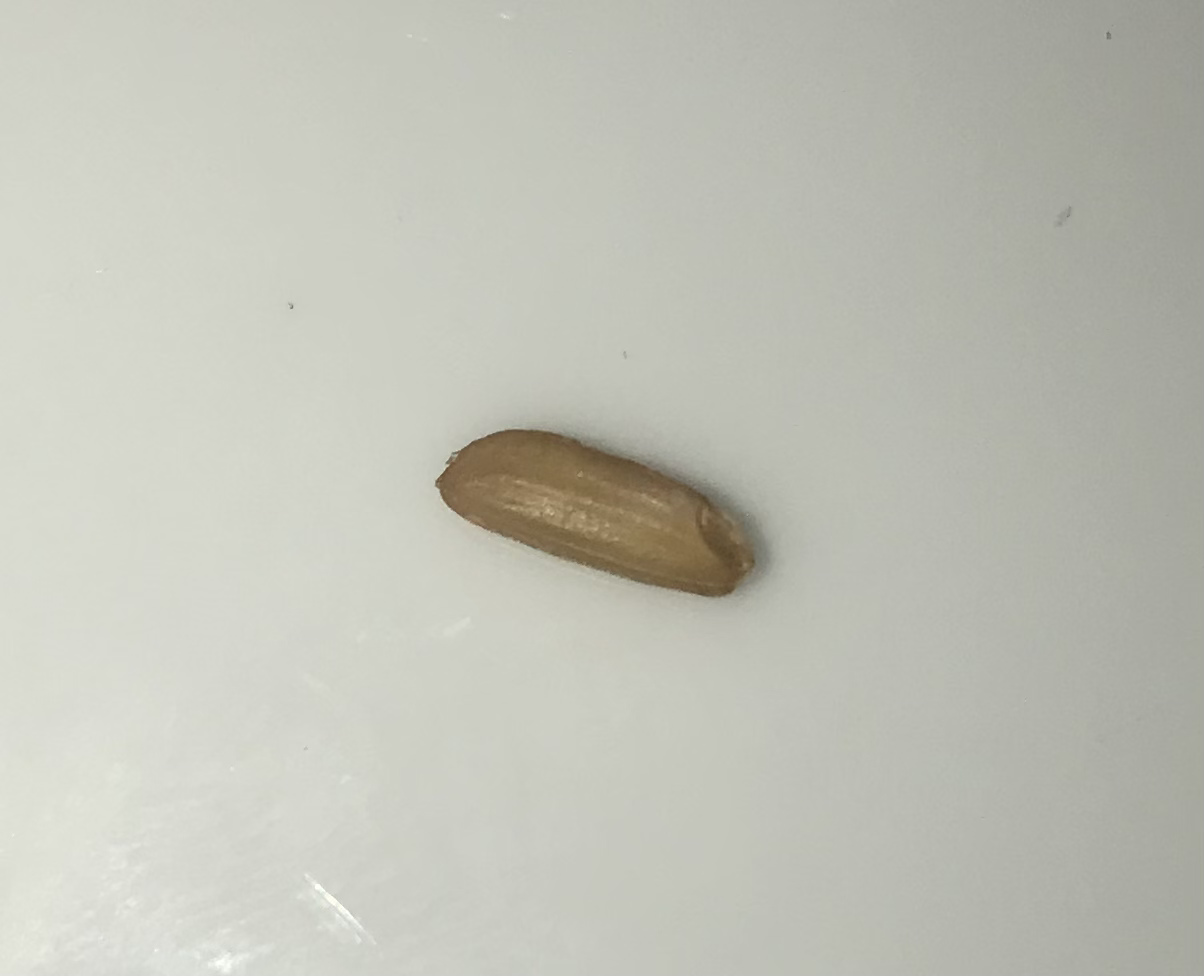Gao Lut Dien Bien: (424, 409, 755, 607)
